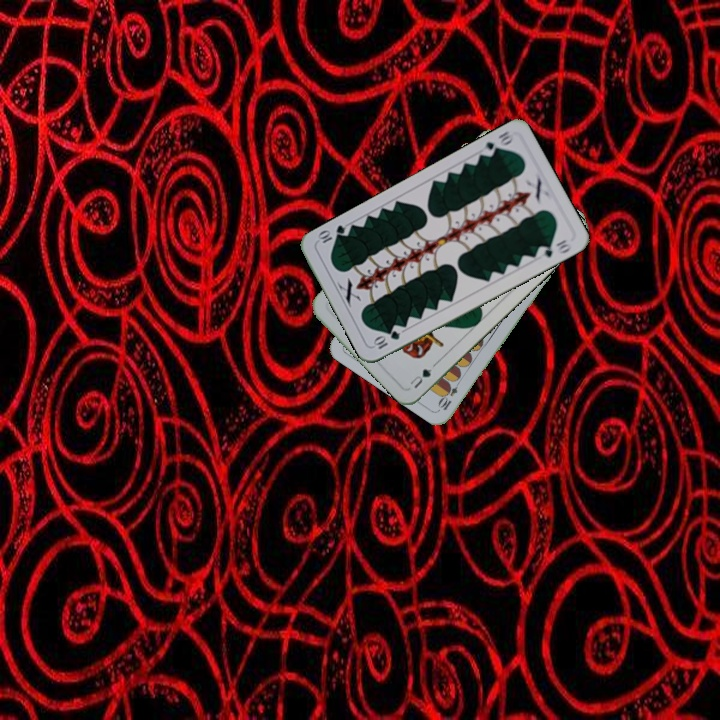E10: (435, 375, 464, 413)
G10: (477, 127, 517, 160), (369, 327, 402, 352)
GU: (406, 365, 434, 391)
